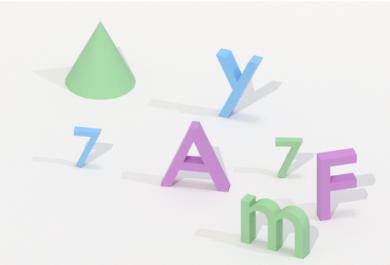0-TamGiac: (61, 19, 140, 104)
7: (272, 133, 306, 181), (71, 122, 103, 171)
A: (158, 118, 235, 195)
F: (312, 144, 363, 223)
m: (238, 192, 313, 261)
y: (212, 45, 266, 124)
